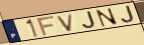1: (25, 18, 40, 38)
F: (36, 15, 57, 37)
J: (120, 4, 136, 23), (82, 10, 97, 29)
N: (94, 7, 120, 28)
V: (56, 13, 75, 33)
